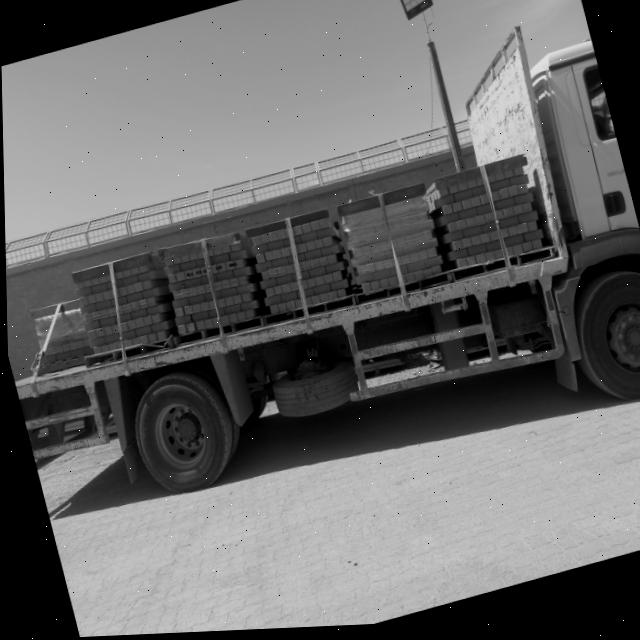bricks: (290, 176, 503, 304), (114, 241, 218, 346), (206, 219, 301, 325), (487, 165, 542, 254), (72, 263, 119, 354)
